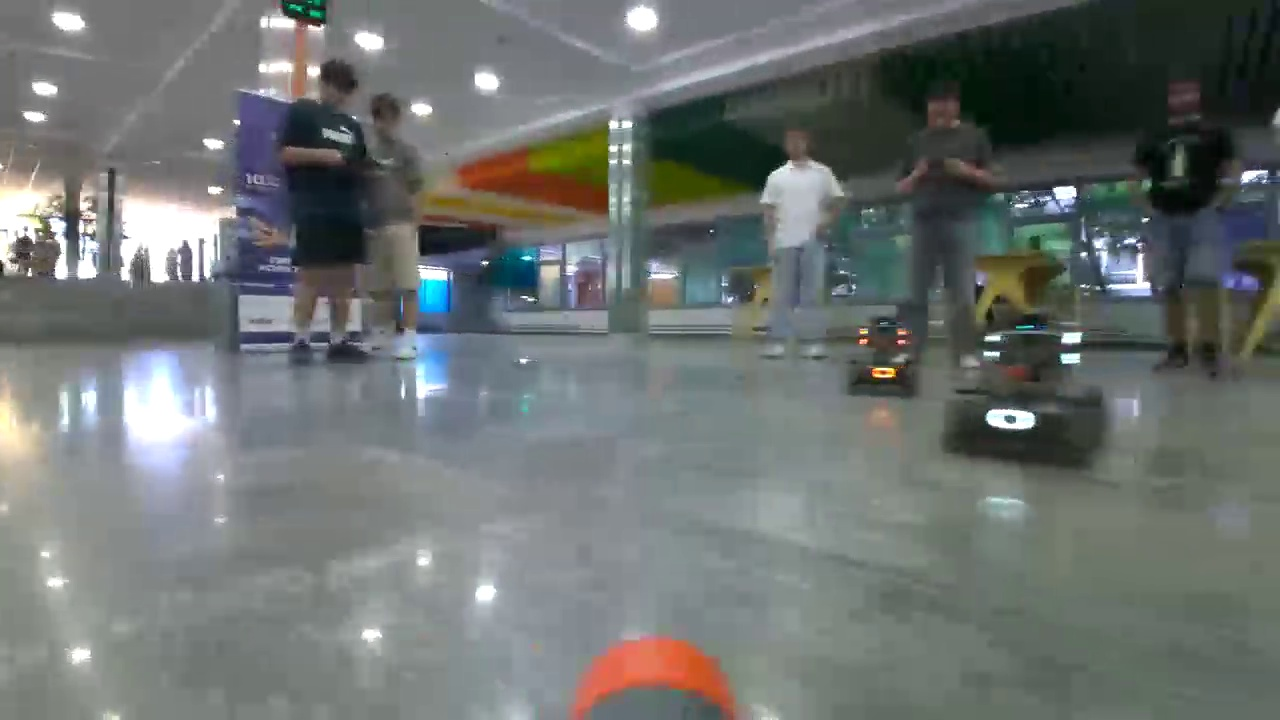robot: (945, 315, 1103, 462), (849, 320, 917, 397)
